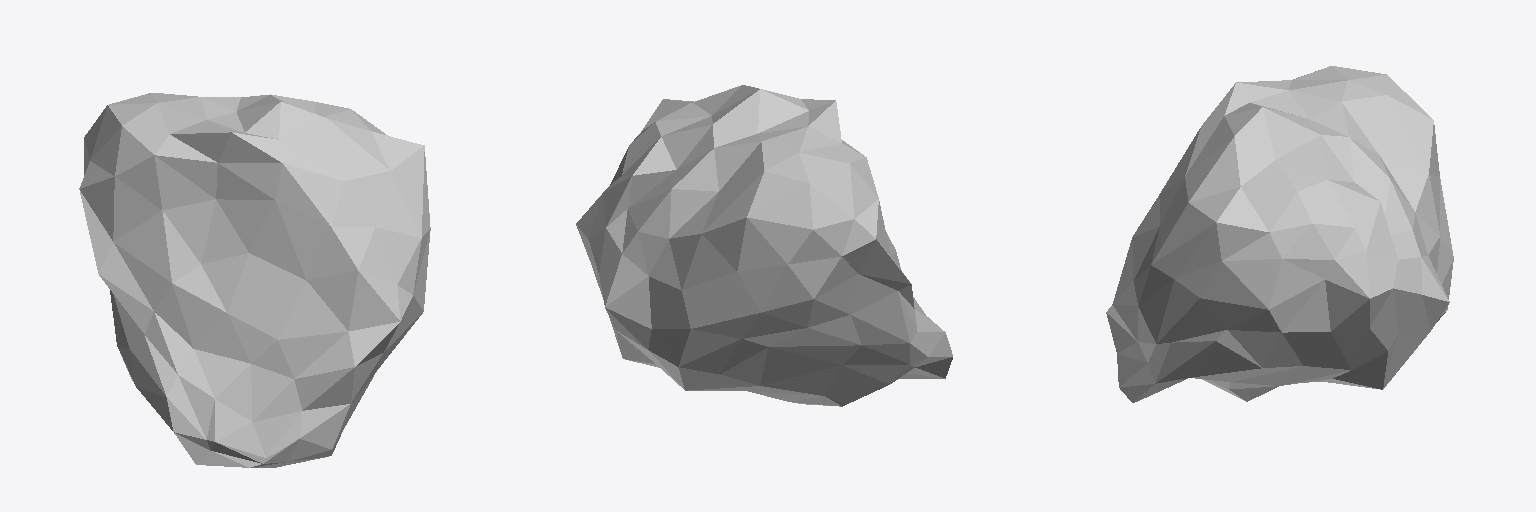
File: Genastre4.obj
3 views of the same model, side by side, from view 1: azimuth 30°, elevation 25°; view 2: azimuth 150°, elevation 25°; view 3: azimuth 270°, elevation 25° (orthographic).
Parts seen in each view (by area): view 1: astre4; view 2: astre4; view 3: astre4.
Part boxes in pixels (x1,y1,x2,y2): astre4: (79, 93, 430, 467); astre4: (576, 85, 952, 406); astre4: (1106, 66, 1453, 402).
Bounding box in the file's own units: 69.96 × 69.6 × 69.96.